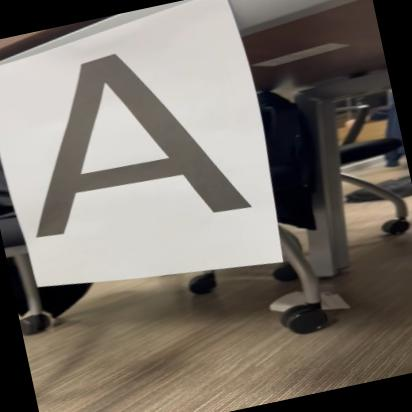seat: (0, 24, 263, 255)
